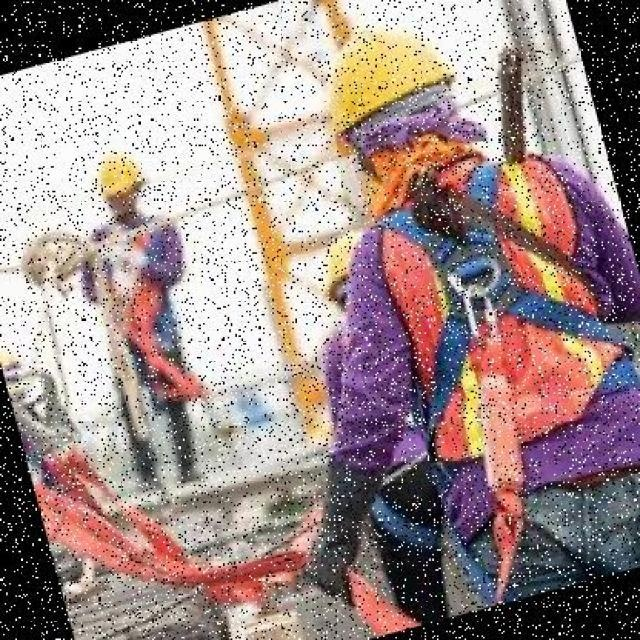Arnes_seguridad: (352, 126, 640, 612)
